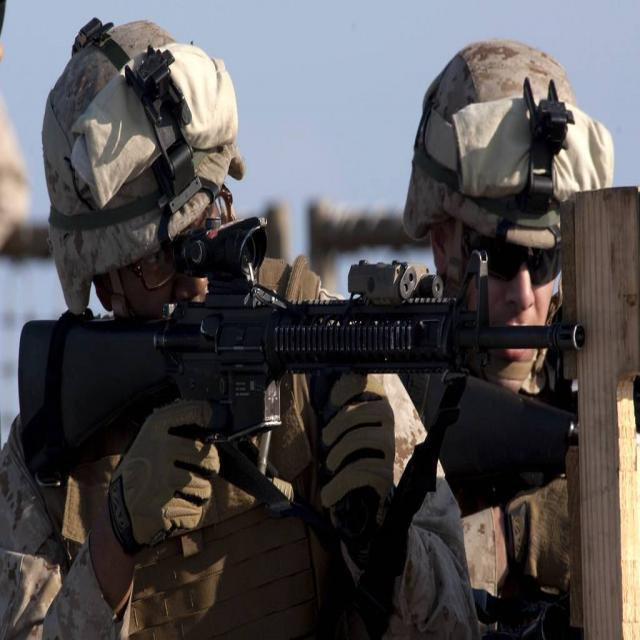m16: (5, 14, 595, 588)
